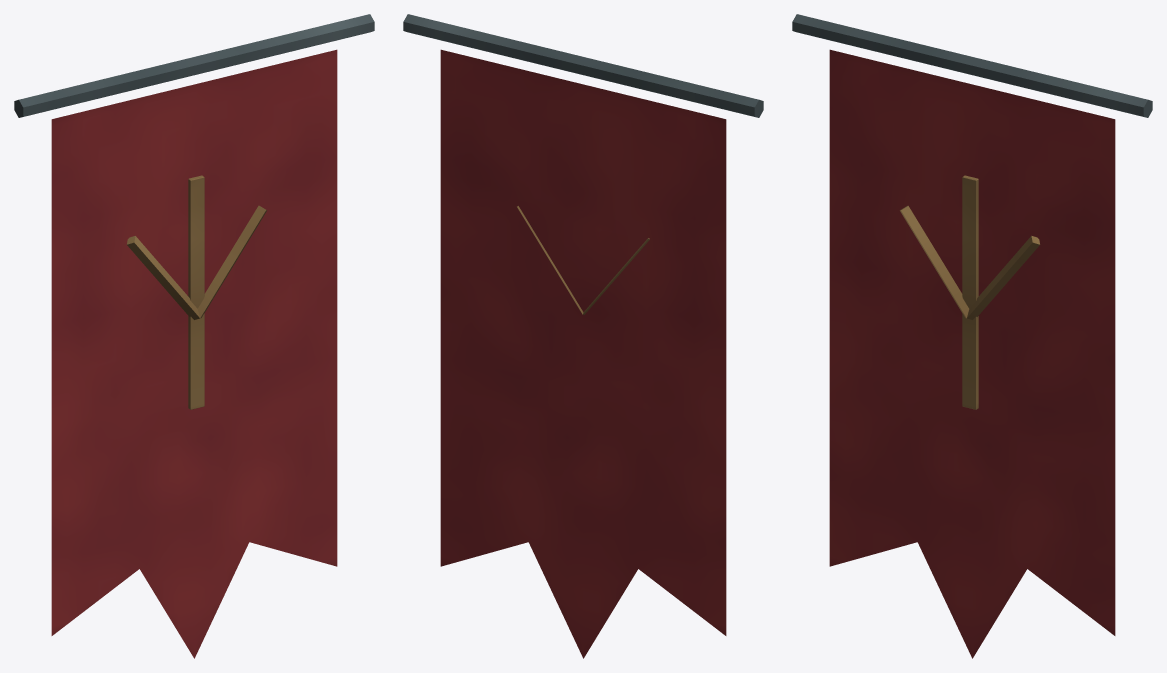
File: red_banner.glb
3 renders of one model, left to right at view 1: azimuth 30°, elevation 25°; view 2: azimuth 150°, elevation 25°; view 3: azimuth 330°, elevation 25°, orthographic.
Parts seen in each view (by area): view 1: red_banner; view 2: red_banner; view 3: red_banner.
Part boxes in pixels (<box>): red_banner: <box>14,14,374,658</box>; red_banner: <box>403,14,763,658</box>; red_banner: <box>792,14,1152,658</box>.
Bounding box in the file's own units: 1.6 × 2.62 × 0.0796.
Materials: 3 (3 with a texture image).
